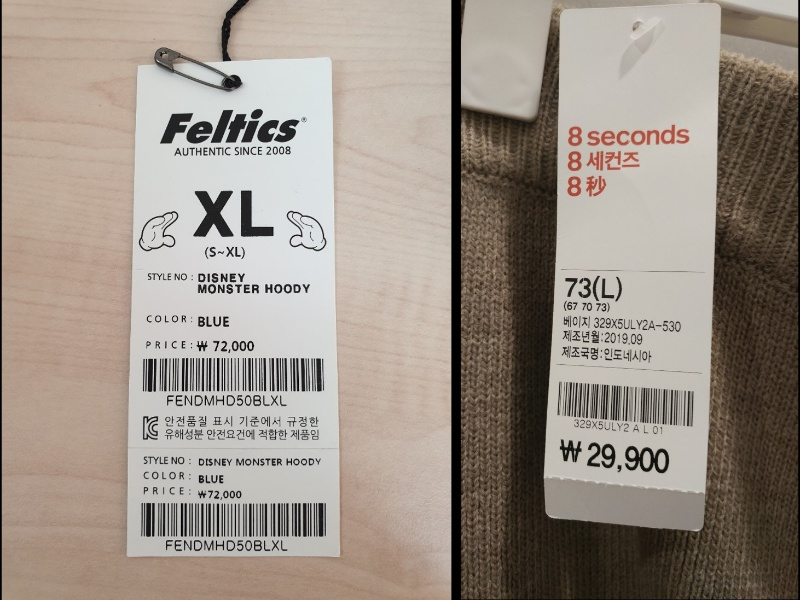tag: (127, 57, 339, 557), (544, 6, 719, 533)
text: (158, 106, 299, 144), (161, 412, 325, 444), (556, 437, 673, 478), (190, 185, 275, 239), (565, 124, 692, 148), (557, 341, 653, 365), (571, 416, 667, 440), (160, 535, 290, 552), (164, 391, 290, 408), (592, 313, 684, 334), (172, 144, 296, 159), (567, 150, 641, 175), (561, 325, 645, 347), (195, 282, 313, 297), (561, 274, 624, 302), (194, 456, 322, 468), (564, 172, 609, 199), (197, 337, 254, 354), (140, 450, 194, 466), (558, 298, 612, 314), (140, 484, 192, 500), (203, 242, 246, 261), (143, 311, 194, 327), (141, 469, 194, 484), (197, 268, 245, 284), (144, 270, 194, 284), (141, 339, 194, 352), (195, 312, 231, 328), (195, 488, 242, 499), (559, 314, 591, 330), (194, 472, 226, 486)
